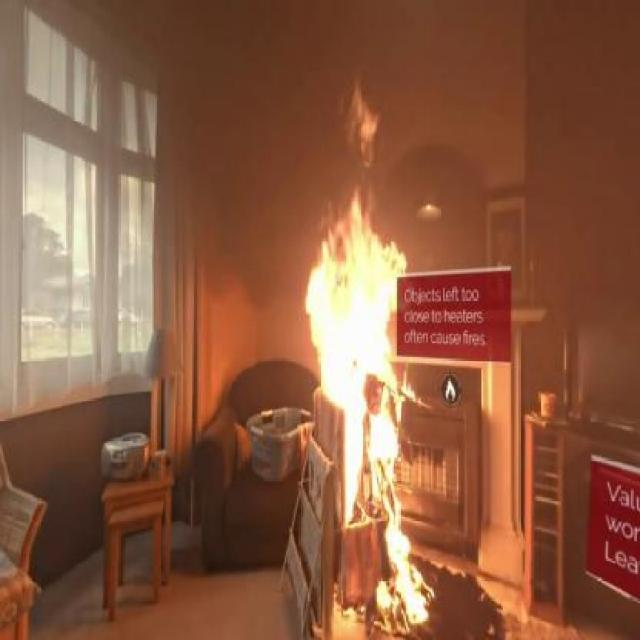fire: (306, 191, 420, 611)
smoke: (168, 2, 302, 307)
